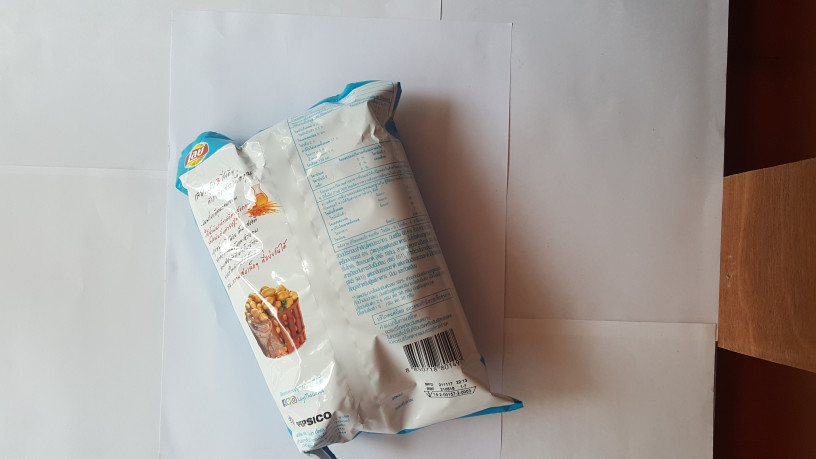lays-onion: (169, 72, 526, 458)
